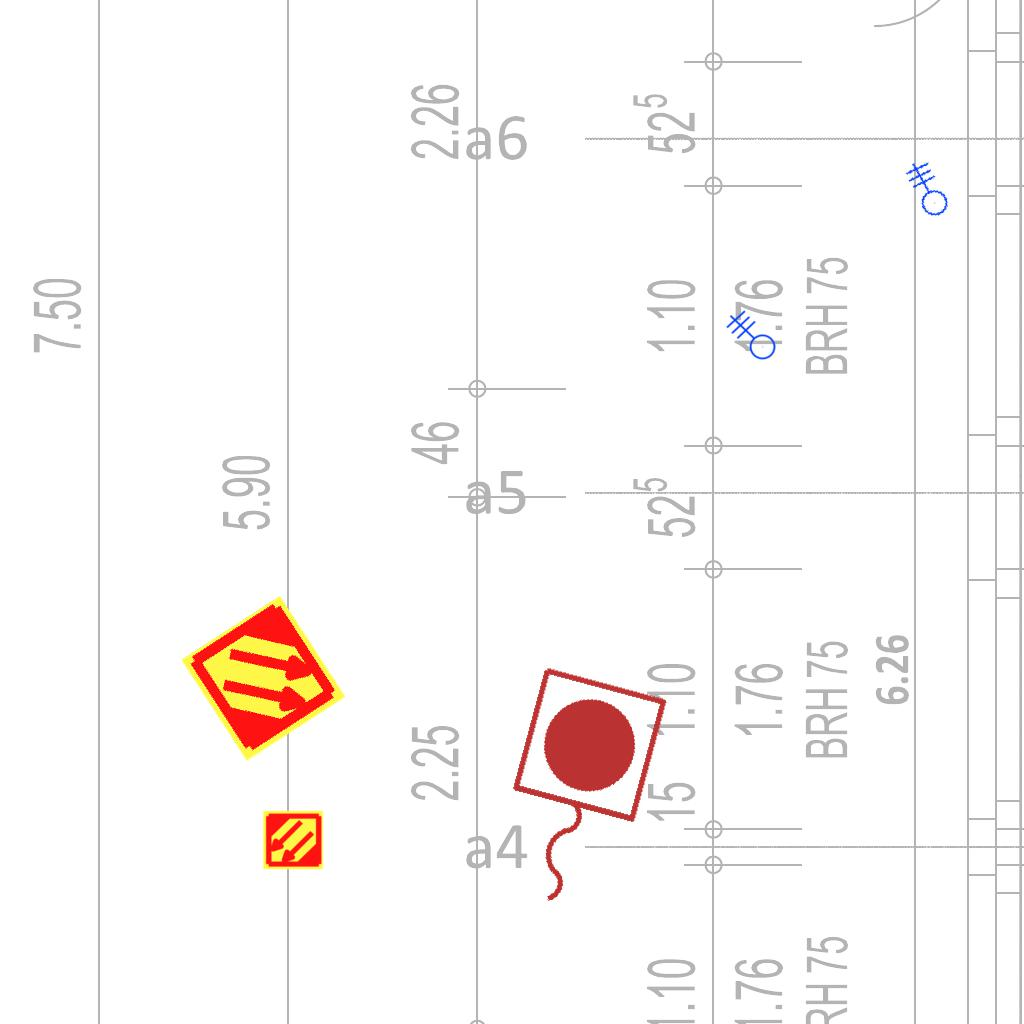ASR_Ansaugrauchmelder: (177, 592, 350, 765), (262, 809, 324, 871)
Elektroanschluss_allgemein_400V_Geraeteanschlussdose_400V: (887, 155, 959, 227), (720, 310, 776, 368)
Zugtaster: (473, 656, 677, 930)
